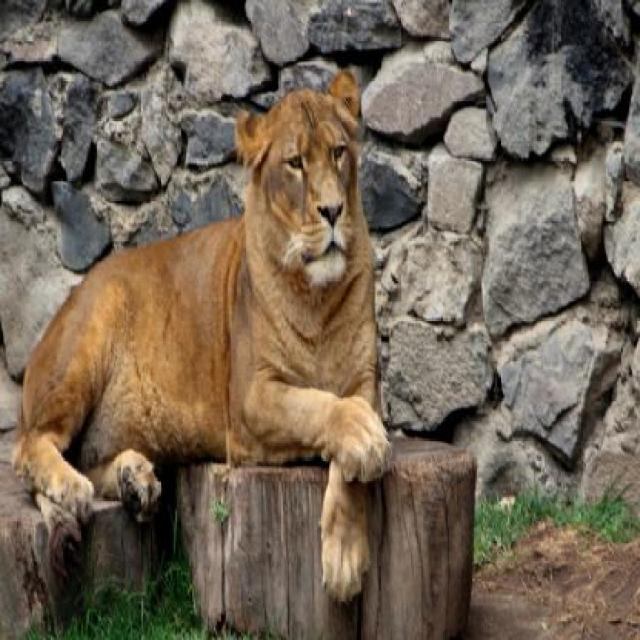Lion: (9, 54, 397, 620)
